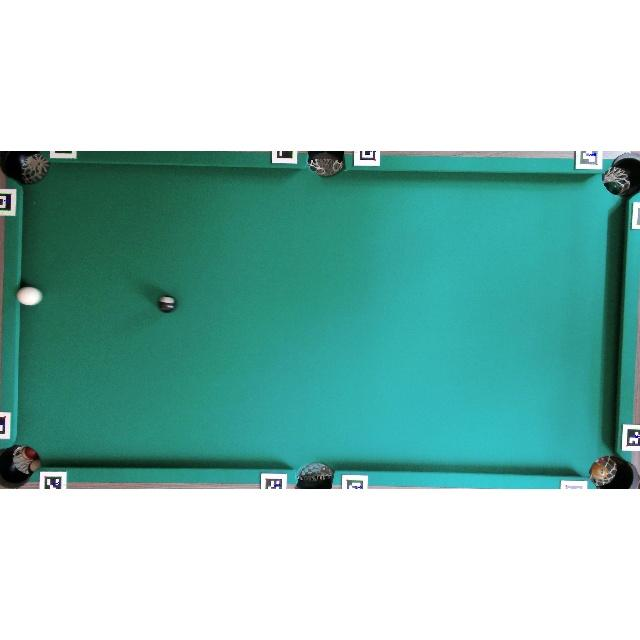cue ball: (16, 286, 43, 307)
other: (158, 295, 176, 313)
